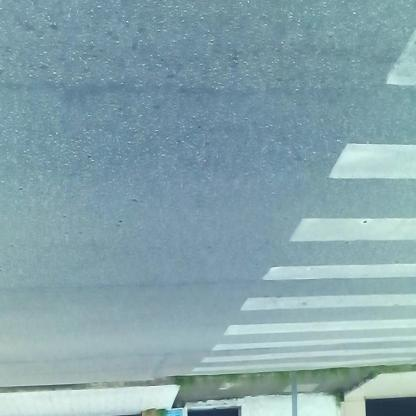crosswalk: (196, 16, 416, 385)
sidewalk: (4, 367, 412, 399)
